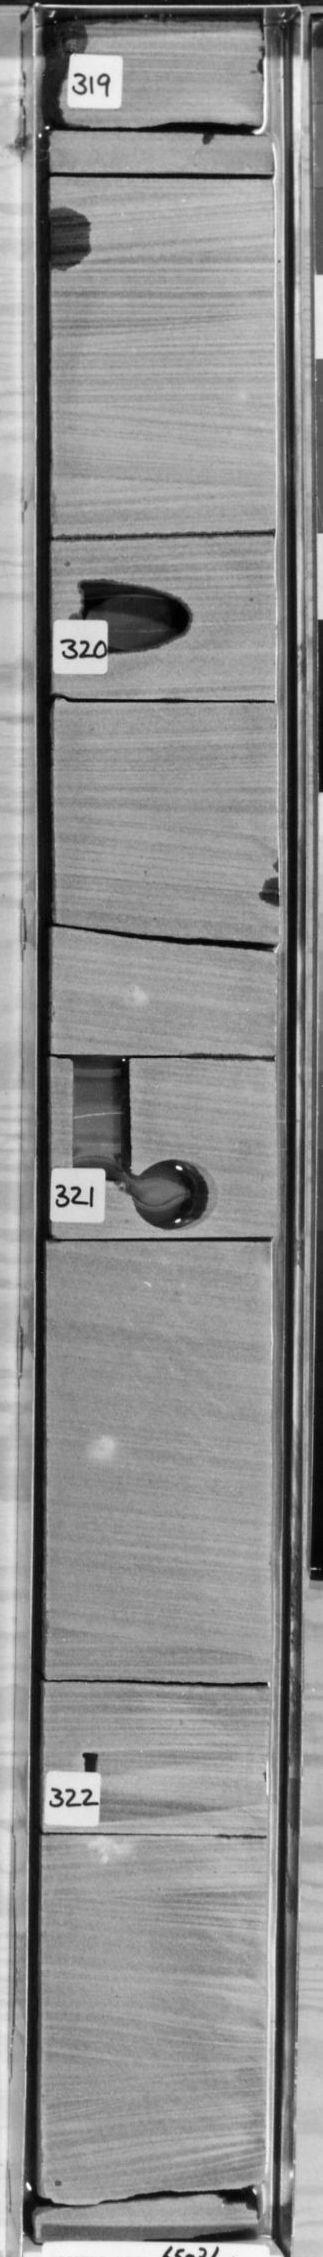hplug: (79, 1746, 271, 1829), (69, 571, 200, 659), (133, 1154, 226, 1234)
vplug: (66, 1046, 137, 1192)
